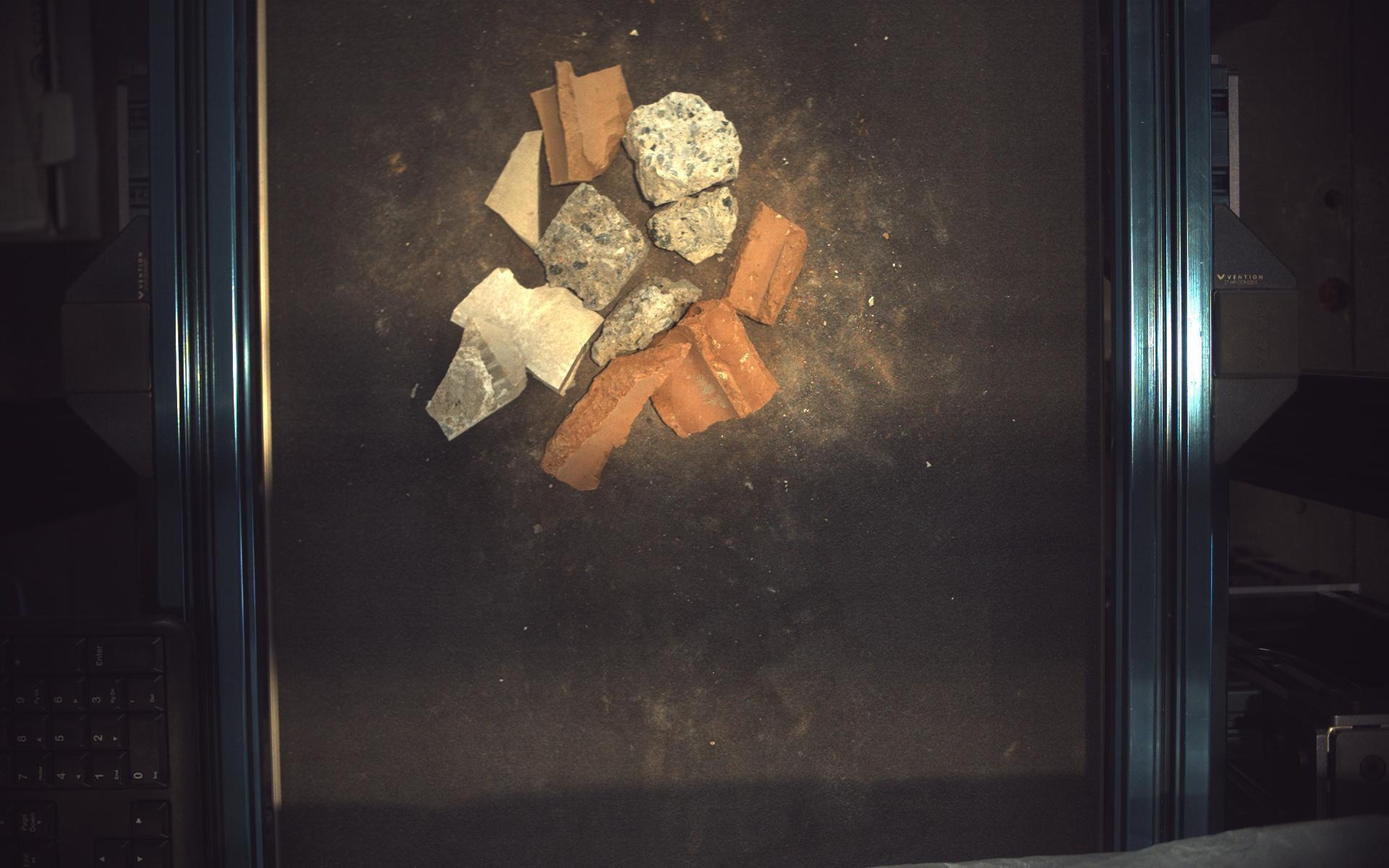brick: (541, 339, 691, 490), (653, 299, 779, 438), (531, 60, 634, 184), (726, 202, 809, 324)
concrete: (536, 182, 650, 311), (624, 90, 743, 205), (592, 276, 703, 367), (650, 185, 739, 263)
tile: (451, 268, 603, 391), (427, 316, 527, 440), (485, 129, 543, 250)
